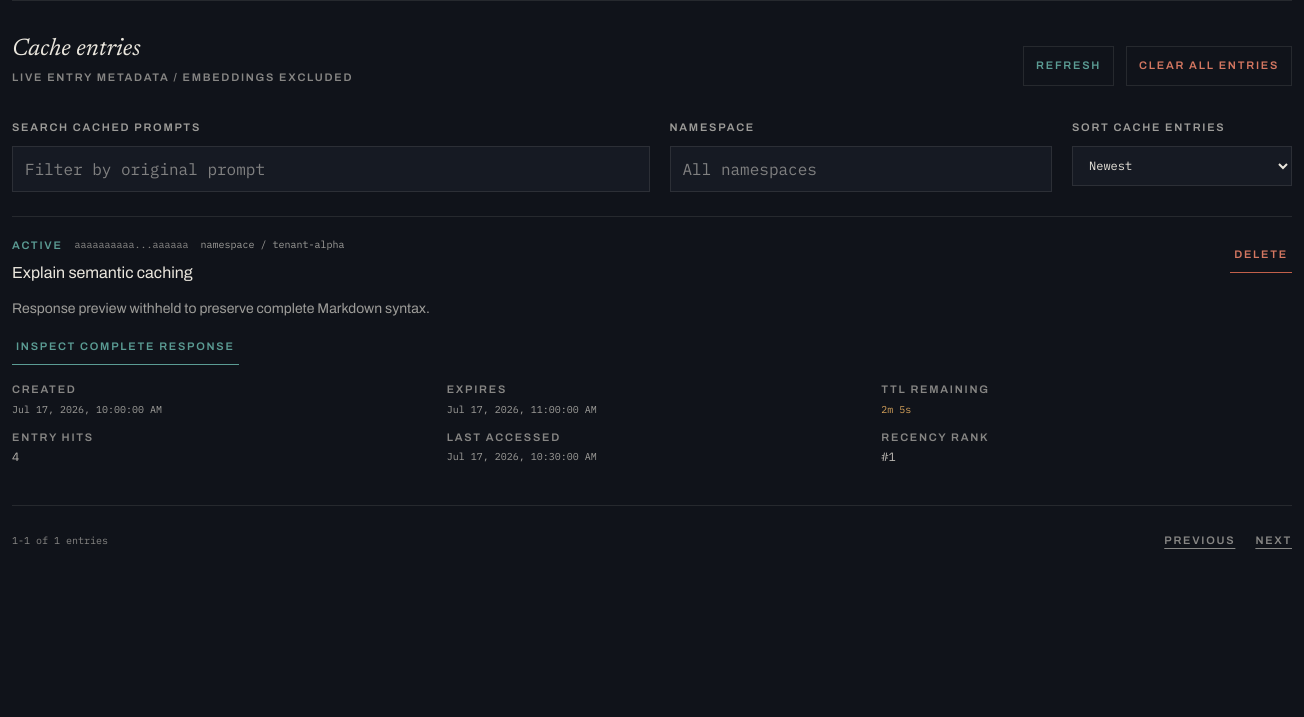
Test: CacheInspector › loads complete Markdown instead of rendering a sliced raw preview
The image size is (1304, 717).
Expected: the text "Bold crossing the old boundary" is not shown
Click the button "Inspect complete response".
click(125, 347)  # box [12,329,239,365]
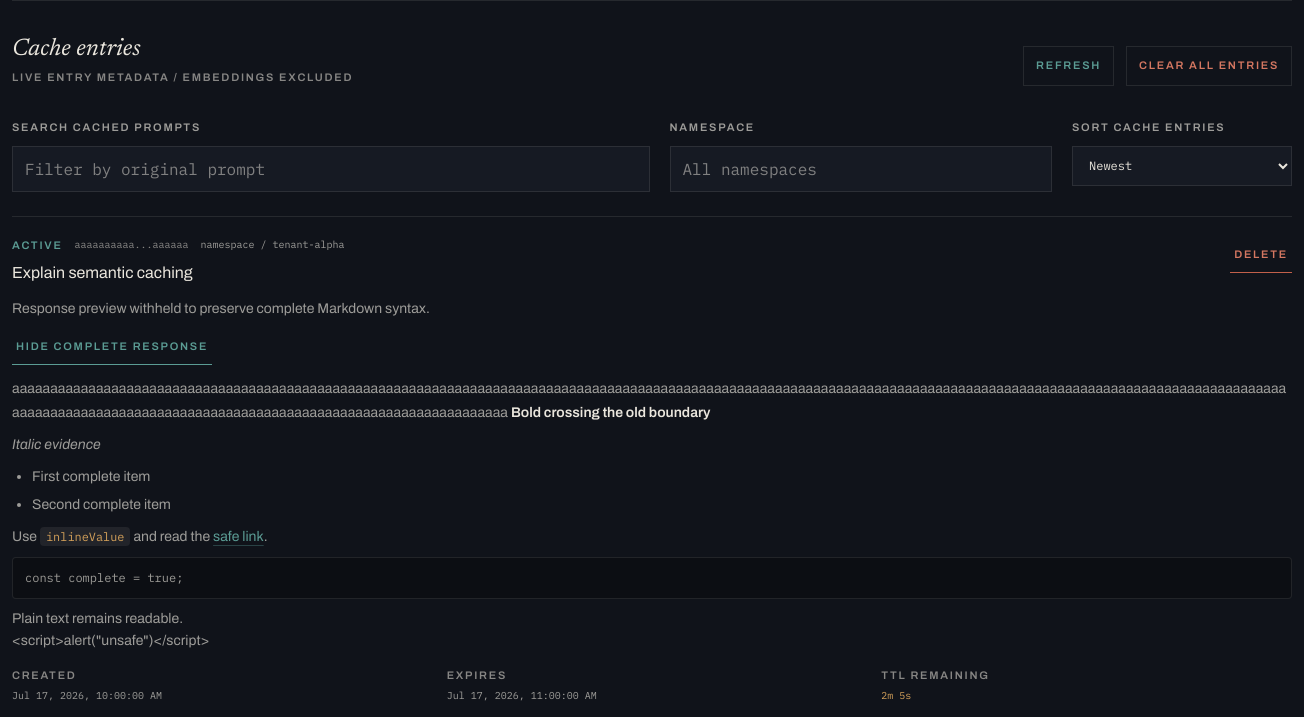
Expected: the text "First complete item" is shown, [32,469,150,484]
Expected: the text "const complete = true;" is shown, [12,557,1292,599]
Expected: the text "Plain text remains readable." is shown, [12,611,183,626]
Click the button named "Inspect complete response".
click(112, 347)  # box [12,329,212,365]
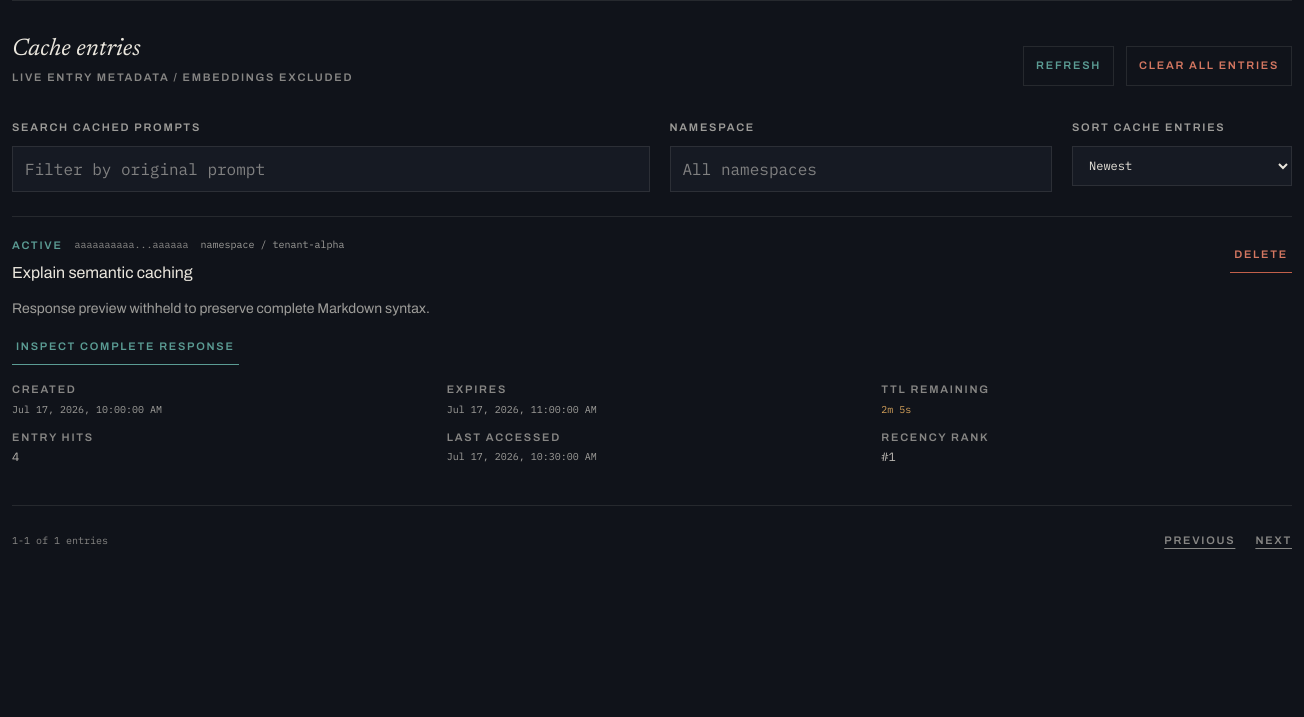
Expected: the text "Bold crossing the old boundary" is gone
Expected: the button "Inspect complete response" is collapsed, [12,329,239,365]
